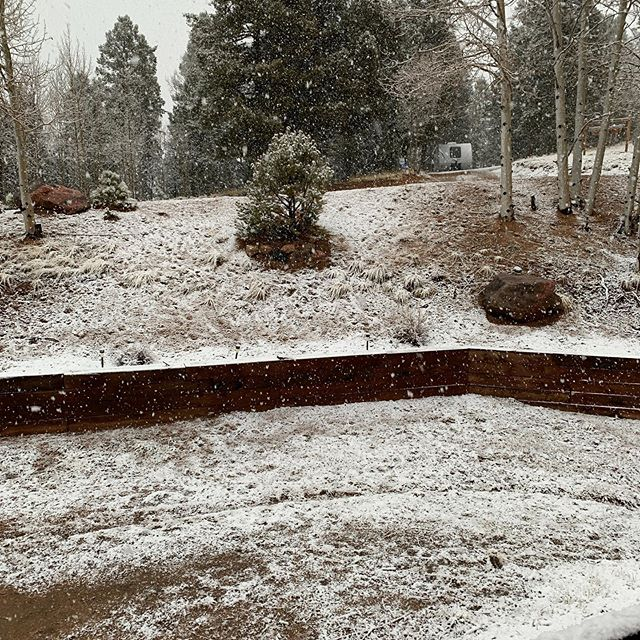tree: (196, 1, 421, 186), (86, 13, 174, 203), (233, 126, 344, 264)
